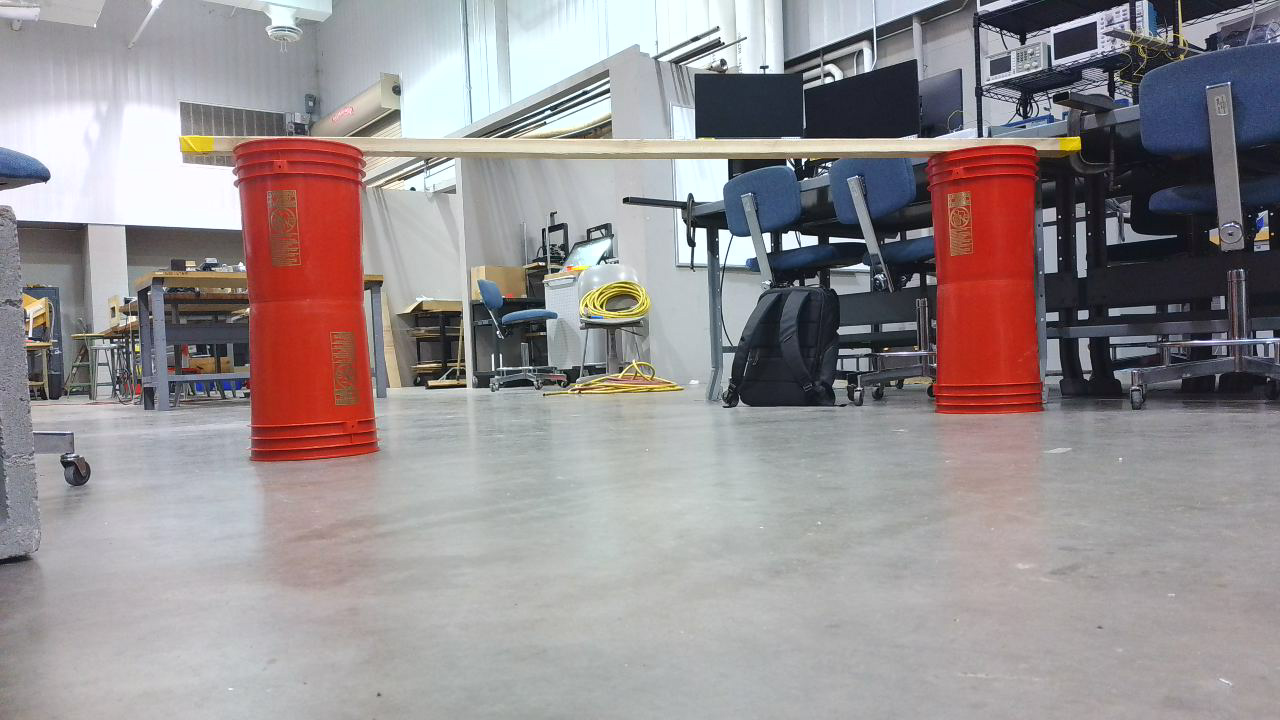red_bucketArch: (235, 139, 1054, 470)
